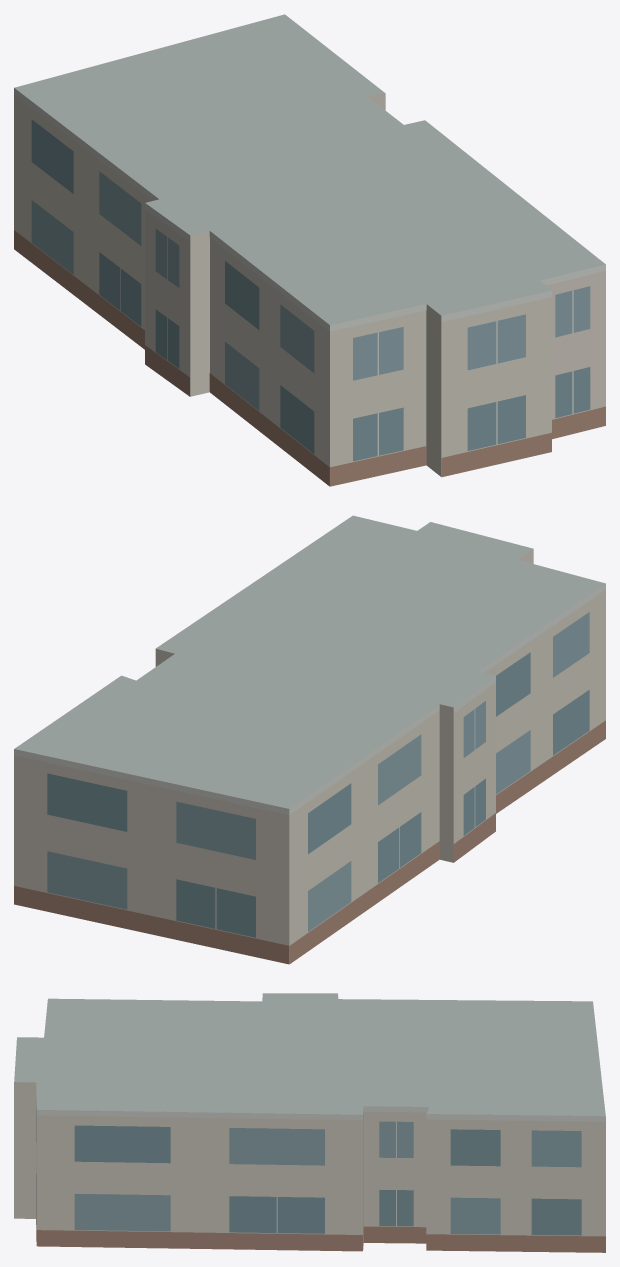
Rendered from survey-upis-32669951.glb.
The picture shows the model from 3 angles, top to bottom: view 1: azimuth 30°, elevation 25°; view 2: azimuth 150°, elevation 25°; view 3: azimuth 270°, elevation 25°; orthographic projection. The views are drawn at different scales.
Parts seen in each view (by area): view 1: survey-upis-32669951.tmp; view 2: survey-upis-32669951.tmp; view 3: survey-upis-32669951.tmp.
Part boxes in pixels (x1,y1,x2,y2): survey-upis-32669951.tmp: (14,14,605,486); survey-upis-32669951.tmp: (14,515,605,964); survey-upis-32669951.tmp: (14,993,605,1252).
Bounding box in the file's own units: 11.8 × 6.1 × 23.97.
